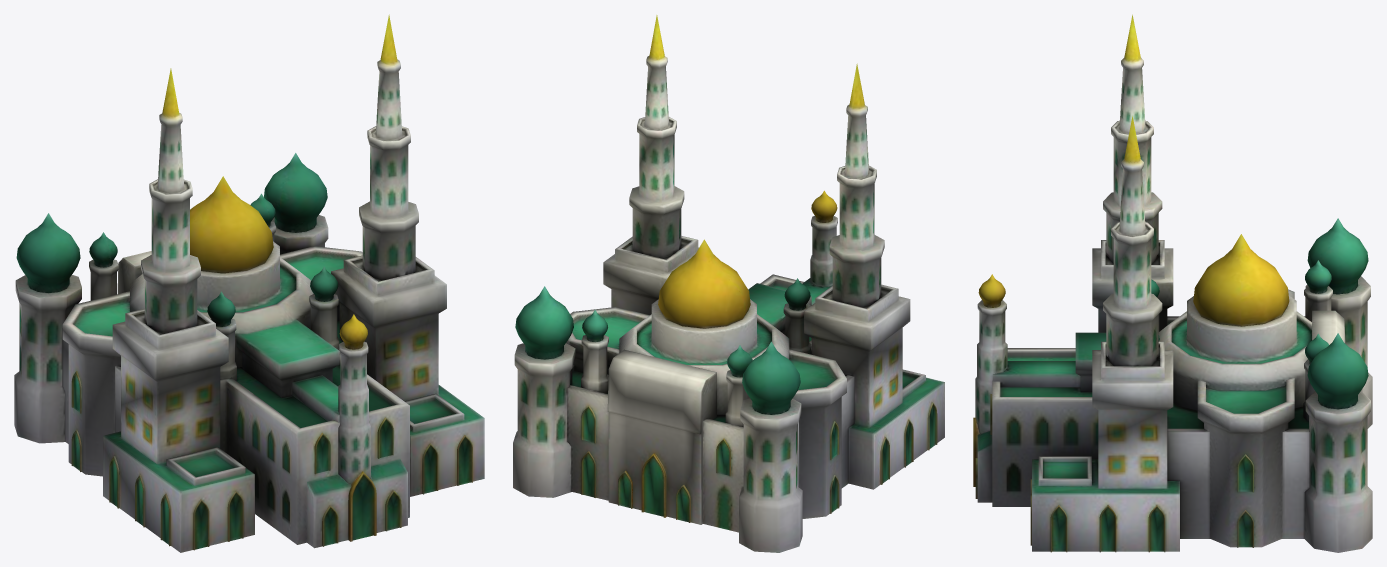
File: Temple_babylonian.glb
The picture shows the model from 3 angles, left to right: view 1: azimuth 30°, elevation 25°; view 2: azimuth 150°, elevation 25°; view 3: azimuth 270°, elevation 25°; orthographic projection. The views are drawn at different scales.
Visible parts, largest first — view 1: Sphere.008; view 2: Sphere.008; view 3: Sphere.008.
Part boxes in pixels (x1,y1,x2,y2): Sphere.008: (14, 14, 484, 552); Sphere.008: (513, 15, 944, 552); Sphere.008: (973, 14, 1372, 552).
Bounding box in the file's own units: 6.12 × 8.29 × 7.2.
1 material, 1 textured.
